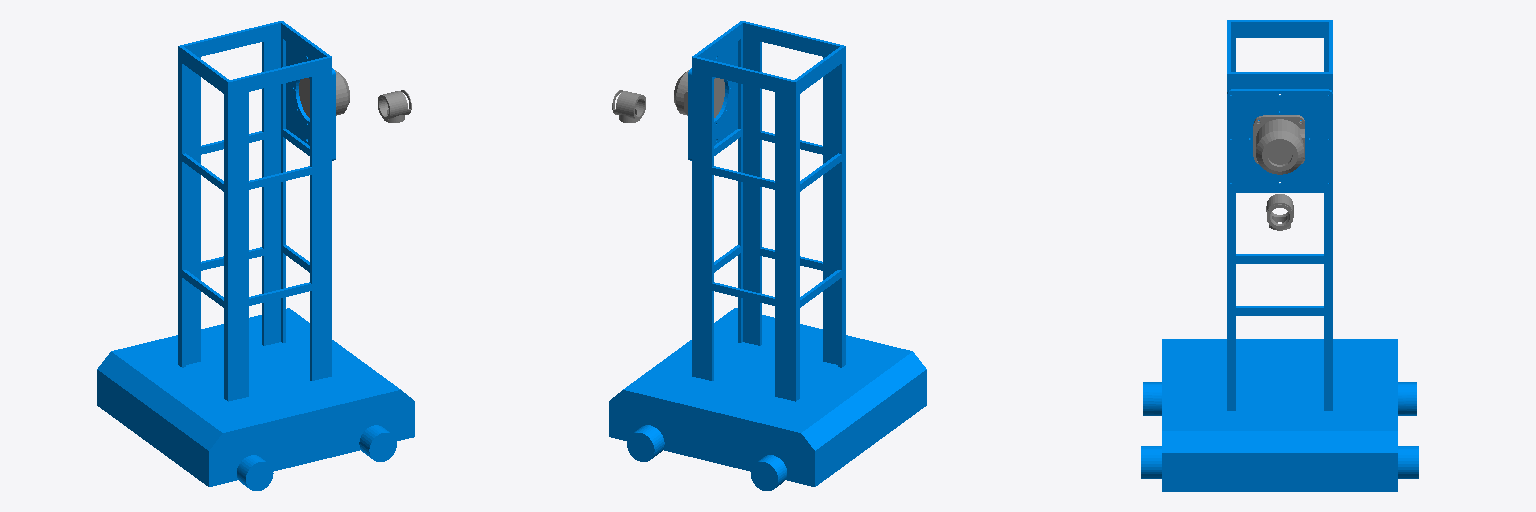
URDF robot description (cr_no_v.SLDASM):
<?xml version="1.0" encoding="utf-8"?>
<!-- This URDF was automatically created by SolidWorks to URDF Exporter! Originally created by [author] ([email redacted]) 
     Commit Version: 1.6.0-4-g7f85cfe  Build Version: 1.6.7995.38578
     For more information, please see http://wiki.ros.org/sw_urdf_exporter -->
<robot
  name="cr_no_v.SLDASM">
  <link
    name="base_link">
    <inertial>
      <origin
        xyz="0.00351046096422747 9.38533445404843E-07 0.202333863971419"
        rpy="0 0 0" />
      <mass
        value="50.0462632224717" />
      <inertia
        ixx="2.77166621279028"
        ixy="2.01422969466445E-07"
        ixz="-0.0536875907875239"
        iyy="2.83719349623548"
        iyz="-5.35660563253282E-05"
        izz="2.69143233661378" />
    </inertial>
    <visual>
      <origin
        xyz="0 0 0"
        rpy="0 0 0" />
      <geometry>
        <mesh
          filename="package://cr_no_v.SLDASM/meshes/base_link.STL" />
      </geometry>
      <material
        name="al">
        <color
          rgba="0 0.6 1 1" />
      </material>
    </visual>
    <collision>
      <origin
        xyz="0 0 0"
        rpy="0 0 0" />
      <geometry>
        <mesh
          filename="package://cr_no_v.SLDASM/meshes/base_link.STL" />
      </geometry>
    </collision>
  </link>
  <link
    name="wheel_rf_link">
    <inertial>
      <origin
        xyz="-2.377E-08 0.025001 -6.6441E-06"
        rpy="0 0 0" />
      <mass
        value="1.6415" />
      <inertia
        ixx="0.005947"
        ixy="1.8204E-10"
        ixz="-1.3982E-09"
        iyy="0.011256"
        iyz="-3.3293E-10"
        izz="0.005947" />
    </inertial>
    <visual>
      <origin
        xyz="0 0 0"
        rpy="0 0 0" />
      <geometry>
        <mesh
          filename="package://cr_no_v.SLDASM/meshes/wheel_rf_link.STL" />
      </geometry>
      <material
        name="">
        <color
          rgba="0.5451 0.52549 0.41961 1" />
      </material>
    </visual>
    <collision>
      <origin
        xyz="0 0 0"
        rpy="0 0 0" />
      <geometry>
        <mesh
          filename="package://cr_no_v.SLDASM/meshes/wheel_rf_link.STL" />
      </geometry>
    </collision>
  </link>
  <joint
    name="wheel_rf_joint"
    type="continuous">
    <origin
      xyz="0.1787 -0.32914 0.1125"
      rpy="0 0 0" />
    <parent
      link="base_link" />
    <child
      link="wheel_rf_link" />
    <axis
      xyz="0 1 0" />
  </joint>
  <link
    name="wheel_lf_link">
    <inertial>
      <origin
        xyz="6.1889E-08 -0.024999 -3.4683E-06"
        rpy="0 0 0" />
      <mass
        value="1.6415" />
      <inertia
        ixx="0.005947"
        ixy="3.0662E-11"
        ixz="1.9576E-09"
        iyy="0.011256"
        iyz="-3.3292E-10"
        izz="0.005947" />
    </inertial>
    <visual>
      <origin
        xyz="0 0 0"
        rpy="0 0 0" />
      <geometry>
        <mesh
          filename="package://cr_no_v.SLDASM/meshes/wheel_lf_link.STL" />
      </geometry>
      <material
        name="">
        <color
          rgba="0.5451 0.52549 0.41961 1" />
      </material>
    </visual>
    <collision>
      <origin
        xyz="0 0 0"
        rpy="0 0 0" />
      <geometry>
        <mesh
          filename="package://cr_no_v.SLDASM/meshes/wheel_lf_link.STL" />
      </geometry>
    </collision>
  </link>
  <joint
    name="wheel_lf_joint"
    type="continuous">
    <origin
      xyz="0.1787 0.32914 0.1125"
      rpy="0 0 0" />
    <parent
      link="base_link" />
    <child
      link="wheel_lf_link" />
    <axis
      xyz="0 1 0" />
  </joint>
  <link
    name="wheel_lr_link">
    <inertial>
      <origin
        xyz="0.00013107 1.5985E-06 0.020265"
        rpy="0 0 0" />
      <mass
        value="1.6024" />
      <inertia
        ixx="0.0057413"
        ixy="1.4654E-34"
        ixz="1.2543E-19"
        iyy="0.0057413"
        iyz="-7.5792E-18"
        izz="0.010787" />
    </inertial>
    <visual>
      <origin
        xyz="0 0 0"
        rpy="0 0 0" />
      <geometry>
        <mesh
          filename="package://cr_no_v.SLDASM/meshes/wheel_lr_link.STL" />
      </geometry>
      <material
        name="">
        <color
          rgba="0.5451 0.52549 0.41961 1" />
      </material>
    </visual>
    <collision>
      <origin
        xyz="0 0 0"
        rpy="0 0 0" />
      <geometry>
        <mesh
          filename="package://cr_no_v.SLDASM/meshes/wheel_lr_link.STL" />
      </geometry>
    </collision>
  </link>
  <joint
    name="wheel_lr_joint"
    type="continuous">
    <origin
      xyz="-0.17499 0.3244 0.1125"
      rpy="1.5708 0 0" />
    <parent
      link="base_link" />
    <child
      link="wheel_lr_link" />
    <axis
      xyz="-0.0003518 0 -1" />
  </joint>
  <link
    name="wheel_rr_Link">
    <inertial>
      <origin
        xyz="-9.7179E-05 0.020265 -2.9986E-09"
        rpy="0 0 0" />
      <mass
        value="1.6024" />
      <inertia
        ixx="0.0057413"
        ixy="-1.4123E-19"
        ixz="4.9644E-34"
        iyy="0.010787"
        iyz="-1.7435E-17"
        izz="0.0057413" />
    </inertial>
    <visual>
      <origin
        xyz="0 0 0"
        rpy="0 0 0" />
      <geometry>
        <mesh
          filename="package://cr_no_v.SLDASM/meshes/wheel_rr_Link.STL" />
      </geometry>
      <material
        name="">
        <color
          rgba="0.5451 0.52549 0.41961 1" />
      </material>
    </visual>
    <collision>
      <origin
        xyz="0 0 0"
        rpy="0 0 0" />
      <geometry>
        <mesh
          filename="package://cr_no_v.SLDASM/meshes/wheel_rr_Link.STL" />
      </geometry>
    </collision>
  </link>
  <joint
    name="wheel_rr_joint"
    type="continuous">
    <origin
      xyz="-0.17476 -0.3244 0.1125"
      rpy="0 0 0" />
    <parent
      link="base_link" />
    <child
      link="wheel_rr_Link" />
    <axis
      xyz="-0.0003518 1 0" />
  </joint>
  <link
    name="Rob_base">
    <inertial>
      <origin
        xyz="0.00061297 0.00059199 0.039398"
        rpy="0 0 0" />
      <mass
        value="0.91605" />
      <inertia
        ixx="0.0013992"
        ixy="1.6838E-07"
        ixz="1.1024E-07"
        iyy="0.0013771"
        iyz="1.2662E-06"
        izz="0.0016573" />
    </inertial>
    <visual>
      <origin
        xyz="0 0 0"
        rpy="0 0 0" />
      <geometry>
        <mesh
          filename="package://cr_no_v.SLDASM/meshes/Rob_base.STL" />
      </geometry>
      <material
        name="">
        <color
          rgba="0.6 0.6 0.6 1" />
      </material>
    </visual>
    <collision>
      <origin
        xyz="0 0 0"
        rpy="0 0 0" />
      <geometry>
        <mesh
          filename="package://cr_no_v.SLDASM/meshes/Rob_base.STL" />
      </geometry>
    </collision>
  </link>
  <joint
    name="Rob_base_fix"
    type="fixed">
    <origin
      xyz="0.15995 0 0.9465"
      rpy="-1.5708 0 -1.5708" />
    <parent
      link="base_link" />
    <child
      link="Rob_base" />
    <axis
      xyz="0 0 0" />
  </joint>
  <link
    name="arm_seg1">
    <inertial>
      <origin
        xyz="8.9128E-09 -0.00016808 0.057416"
        rpy="0 0 0" />
      <mass
        value="0.55857" />
      <inertia
        ixx="0.00064447"
        ixy="-8.2983E-11"
        ixz="9.7825E-11"
        iyy="0.00075757"
        iyz="-1.0039E-06"
        izz="0.00052009" />
    </inertial>
    <visual>
      <origin
        xyz="0 0 0"
        rpy="0 0 0" />
      <geometry>
        <mesh
          filename="package://cr_no_v.SLDASM/meshes/arm_seg1.STL" />
      </geometry>
      <material
        name="">
        <color
          rgba="0.6 0.6 0.6 1" />
      </material>
    </visual>
    <collision>
      <origin
        xyz="0 0 0"
        rpy="0 0 0" />
      <geometry>
        <mesh
          filename="package://cr_no_v.SLDASM/meshes/arm_seg1.STL" />
      </geometry>
    </collision>
  </link>
  <joint
    name="arm_seg1_rev"
    type="revolute">
    <origin
      xyz="0 0 0.0892"
      rpy="0 0 1.5708" />
    <parent
      link="Rob_base" />
    <child
      link="arm_seg1" />
    <axis
      xyz="0 0 -1" />
    <limit
      lower="0"
      upper="0"
      effort="0"
      velocity="0" />
  </joint>
  <link
    name="arm_seg2">
    <inertial>
      <origin
        xyz="0.20298 0.018509 0.00037949"
        rpy="0 0 0" />
      <mass
        value="0.76675" />
      <inertia
        ixx="0.001099"
        ixy="-0.00066885"
        ixz="2.1104E-05"
        iyy="0.014608"
        iyz="-2.2639E-07"
        izz="0.014433" />
    </inertial>
    <visual>
      <origin
        xyz="0 0 0"
        rpy="0 0 0" />
      <geometry>
        <mesh
          filename="package://cr_no_v.SLDASM/meshes/arm_seg2.STL" />
      </geometry>
      <material
        name="">
        <color
          rgba="0.61176 0.65882 0.67059 1" />
      </material>
    </visual>
    <collision>
      <origin
        xyz="0 0 0"
        rpy="0 0 0" />
      <geometry>
        <mesh
          filename="package://cr_no_v.SLDASM/meshes/arm_seg2.STL" />
      </geometry>
    </collision>
  </link>
  <joint
    name="arm_seg2_rev"
    type="revolute">
    <origin
      xyz="0 0 0.0615"
      rpy="1.5708 0 0" />
    <parent
      link="arm_seg1" />
    <child
      link="arm_seg2" />
    <axis
      xyz="0 0 1" />
    <limit
      lower="0"
      upper="0"
      effort="0"
      velocity="0" />
  </joint>
  <link
    name="arm_seg3">
    <inertial>
      <origin
        xyz="0.062638 0.099583 -0.00060821"
        rpy="0 0 0" />
      <mass
        value="0.92519" />
      <inertia
        ixx="0.0054137"
        ixy="-0.0005461"
        ixz="9.1776E-09"
        iyy="0.00089221"
        iyz="1.2056E-11"
        izz="0.0054963" />
    </inertial>
    <visual>
      <origin
        xyz="0 0 0"
        rpy="0 0 0" />
      <geometry>
        <mesh
          filename="package://cr_no_v.SLDASM/meshes/arm_seg3.STL" />
      </geometry>
      <material
        name="">
        <color
          rgba="0.61176 0.65882 0.67059 1" />
      </material>
    </visual>
    <collision>
      <origin
        xyz="0 0 0"
        rpy="0 0 0" />
      <geometry>
        <mesh
          filename="package://cr_no_v.SLDASM/meshes/arm_seg3.STL" />
      </geometry>
    </collision>
  </link>
  <joint
    name="arm_seg3_rev"
    type="revolute">
    <origin
      xyz="0.34928 0.02 -0.00068495"
      rpy="-3.1416 0 1.5708" />
    <parent
      link="arm_seg2" />
    <child
      link="arm_seg3" />
    <axis
      xyz="0 0 1" />
    <limit
      lower="0"
      upper="0"
      effort="0"
      velocity="0" />
  </joint>
  <link
    name="arm_seg4">
    <inertial>
      <origin
        xyz="0.00060866 -0.0011863 0.27449"
        rpy="0 0 0" />
      <mass
        value="0.082693" />
      <inertia
        ixx="6.2751E-05"
        ixy="-1.3077E-09"
        ixz="7.6011E-10"
        iyy="7.2735E-05"
        iyz="3.0814E-06"
        izz="5.9938E-05" />
    </inertial>
    <visual>
      <origin
        xyz="0 0 0"
        rpy="0 0 0" />
      <geometry>
        <mesh
          filename="package://cr_no_v.SLDASM/meshes/arm_seg4.STL" />
      </geometry>
      <material
        name="">
        <color
          rgba="0.6 0.6 0.6 1" />
      </material>
    </visual>
    <collision>
      <origin
        xyz="0 0 0"
        rpy="0 0 0" />
      <geometry>
        <mesh
          filename="package://cr_no_v.SLDASM/meshes/arm_seg4.STL" />
      </geometry>
    </collision>
  </link>
  <joint
    name="arm_seg4_rev"
    type="revolute">
    <origin
      xyz="0.07 0.00395 0"
      rpy="1.5708 1.5708 0" />
    <parent
      link="arm_seg3" />
    <child
      link="arm_seg4" />
    <axis
      xyz="0 0 -1" />
    <limit
      lower="0"
      upper="0"
      effort="0"
      velocity="0" />
  </joint>
  <link
    name="arm_seg5">
    <inertial>
      <origin
        xyz="-0.00060822 -0.05437 0.0043434"
        rpy="0 0 0" />
      <mass
        value="0.16811" />
      <inertia
        ixx="0.00012612"
        ixy="-6.1178E-11"
        ixz="-8.5675E-12"
        iyy="8.8779E-05"
        iyz="-2.0109E-05"
        izz="0.00010791" />
    </inertial>
    <visual>
      <origin
        xyz="0 0 0"
        rpy="0 0 0" />
      <geometry>
        <mesh
          filename="package://cr_no_v.SLDASM/meshes/arm_seg5.STL" />
      </geometry>
      <material
        name="">
        <color
          rgba="0.6 0.6 0.6 1" />
      </material>
    </visual>
    <collision>
      <origin
        xyz="0 0 0"
        rpy="0 0 0" />
      <geometry>
        <mesh
          filename="package://cr_no_v.SLDASM/meshes/arm_seg5.STL" />
      </geometry>
    </collision>
  </link>
  <joint
    name="arm_seg5_rev"
    type="revolute">
    <origin
      xyz="0 0 0.2776"
      rpy="-1.5708 0 3.1416" />
    <parent
      link="arm_seg4" />
    <child
      link="arm_seg5" />
    <axis
      xyz="0 0 1" />
    <limit
      lower="0"
      upper="0"
      effort="0"
      velocity="0" />
  </joint>
  <link
    name="arm_seg6">
    <inertial>
      <origin
        xyz="3.3859E-05 3.3861E-05 3.3858E-05"
        rpy="0 0 0" />
      <mass
        value="0.0005335" />
      <inertia
        ixx="5.4365E-09"
        ixy="6.1125E-13"
        ixz="6.1448E-13"
        iyy="5.4365E-09"
        iyz="6.1131E-13"
        izz="5.4365E-09" />
    </inertial>
    <visual>
      <origin
        xyz="0 0 0"
        rpy="0 0 0" />
      <geometry>
        <mesh
          filename="package://cr_no_v.SLDASM/meshes/arm_seg6.STL" />
      </geometry>
      <material
        name="">
        <color
          rgba="0.79216 0.81961 0.93333 1" />
      </material>
    </visual>
    <collision>
      <origin
        xyz="0 0 0"
        rpy="0 0 0" />
      <geometry>
        <mesh
          filename="package://cr_no_v.SLDASM/meshes/arm_seg6.STL" />
      </geometry>
    </collision>
  </link>
  <joint
    name="arm_seg6_rev"
    type="revolute">
    <origin
      xyz="0 -0.1575 0"
      rpy="1.5708 0 0" />
    <parent
      link="arm_seg5" />
    <child
      link="arm_seg6" />
    <axis
      xyz="0 0 1" />
    <limit
      lower="0"
      upper="0"
      effort="0"
      velocity="0" />
  </joint>
</robot>

--- Facts derived from the render (not from the file) ---
Views: 3 orthographic renders of the robot side by side, from view 1: azimuth 30°, elevation 25°; view 2: azimuth 150°, elevation 25°; view 3: azimuth 270°, elevation 25°.
Robot: cr_no_v.SLDASM — 12 links, 11 joints (6 revolute, 4 continuous, 1 fixed); root link base_link; default pose: all joints at 0.
Visible links, largest first — view 1: base_link, arm_seg4, Rob_base; view 2: base_link, arm_seg4, Rob_base; view 3: base_link, Rob_base, arm_seg4.
Link boxes in pixels (box(x1,y1,x2,y2)): base_link: box(97, 21, 414, 490); arm_seg4: box(378, 90, 411, 122); Rob_base: box(299, 70, 349, 117); base_link: box(609, 21, 926, 490); arm_seg4: box(612, 90, 645, 122); Rob_base: box(674, 70, 724, 117); base_link: box(1141, 20, 1418, 491); Rob_base: box(1253, 115, 1304, 174); arm_seg4: box(1266, 194, 1293, 230).
Size in the robot's own frame: 0.7275 by 0.6583 by 1.04 metres.
3 mesh visuals loaded from 12 distinct referenced files (3 binary STL); not drawn: 9 (reference not matched to a file when rendering).